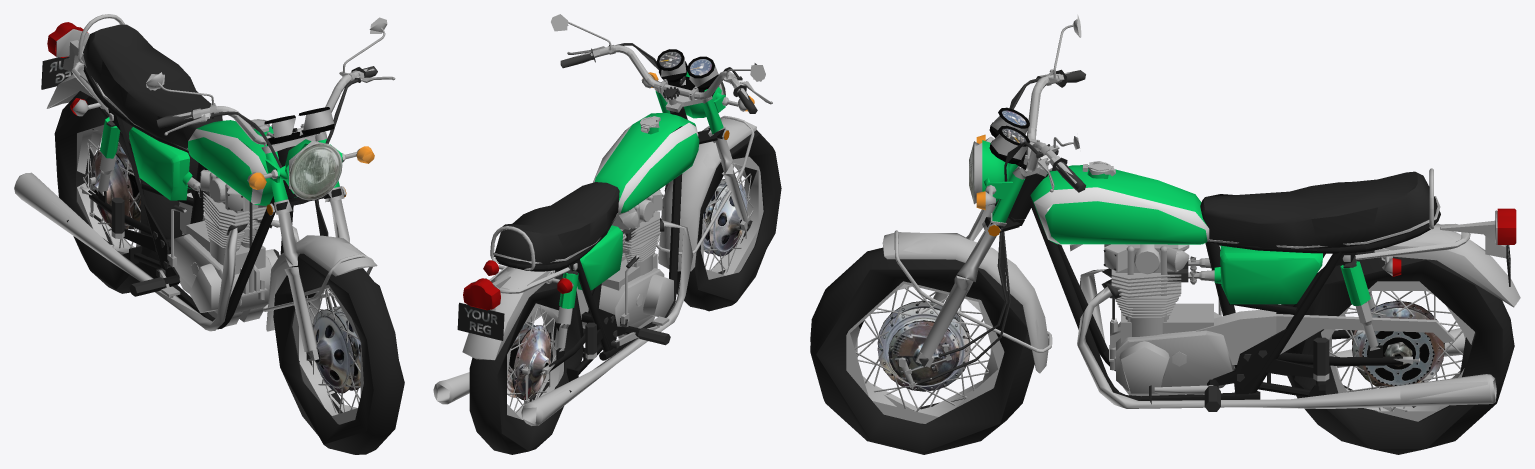
File: moto_yamaha.glb
3 renders of one model, left to right at view 1: azimuth 30°, elevation 25°; view 2: azimuth 150°, elevation 25°; view 3: azimuth 270°, elevation 25°, orthographic. The views are drawn at different scales.
Parts seen in each view (by area): view 1: Object_24, Object_22, Object_19, Object_7, Object_17, Object_16, Object_23, Object_3, Object_15, Object_12, Object_18, Object_21 (+5 smaller); view 2: Object_24, Object_22, Object_17, Object_19, Object_7, Object_16, Object_12, Object_23, Object_18, Object_26, Object_8, Object_21 (+5 smaller); view 3: Object_24, Object_22, Object_19, Object_17, Object_7, Object_16, Object_10, Object_23, Object_15, Object_18, Object_11, Object_13 (+3 smaller).
Part boxes in pixels (<box>): Object_24: <box>14,14,387,424</box>; Object_22: <box>54,91,404,454</box>; Object_19: <box>56,27,395,413</box>; Object_7: <box>83,24,222,151</box>; Object_17: <box>100,117,342,205</box>; Object_16: <box>83,65,341,329</box>; Object_23: <box>312,306,360,393</box>; Object_3: <box>289,143,342,200</box>; Object_15: <box>106,77,361,360</box>; Object_12: <box>91,150,134,229</box>; Object_18: <box>103,76,362,204</box>; Object_21: <box>93,67,365,296</box>; Object_24: <box>433,24,763,425</box>; Object_22: <box>469,130,781,454</box>; Object_17: <box>559,71,725,308</box>; Object_19: <box>471,21,772,412</box>; Object_7: <box>494,182,619,265</box>; Object_16: <box>495,106,724,381</box>; Object_12: <box>512,325,551,399</box>; Object_23: <box>703,179,747,256</box>; Object_18: <box>546,80,743,283</box>; Object_26: <box>463,260,572,310</box>; Object_8: <box>457,302,504,340</box>; Object_21: <box>529,48,746,400</box>; Object_24: <box>846,19,1520,423</box>; Object_22: <box>810,247,1514,454</box>; Object_19: <box>854,24,1506,411</box>; Object_17: <box>982,140,1370,305</box>; Object_7: <box>1200,171,1439,249</box>; Object_16: <box>984,173,1440,400</box>; Object_10: <box>888,320,959,385</box>; Object_23: <box>877,301,970,391</box>; Object_15: <box>919,76,1356,381</box>; Object_18: <box>1034,155,1392,322</box>; Object_11: <box>1362,331,1434,385</box>; Object_13: <box>1352,307,1444,387</box>.
Size of the model in its own units: 0.8846 by 1.23 by 2.09.
24 materials, 9 textured.
